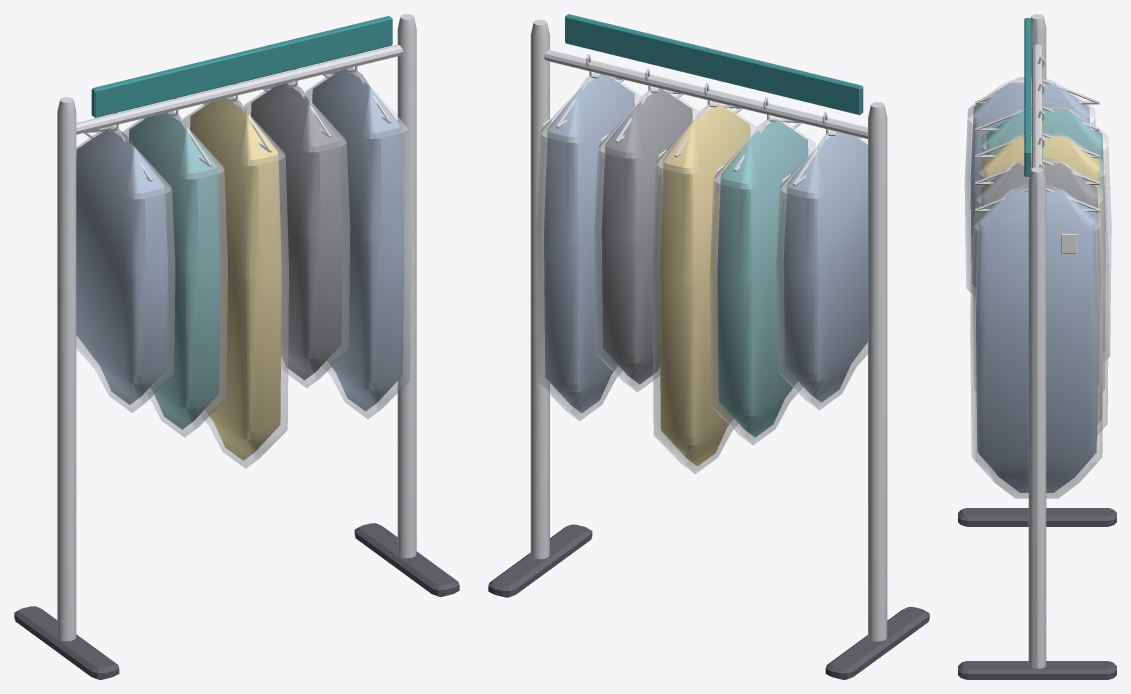
File: dry-cleaners-and-alterations-shop-shop-window-display--dafc36e7__34942.glb
3 renders of one model, left to right at view 1: azimuth 30°, elevation 25°; view 2: azimuth 150°, elevation 25°; view 3: azimuth 270°, elevation 25°, orthographic. The views are drawn at different scales.
Parts seen in each view (by area): view 1: shop-window-display-rail; view 2: shop-window-display-rail; view 3: shop-window-display-rail.
Part boxes in pixels (x1,y1,x2,y2): shop-window-display-rail: (14, 14, 459, 679); shop-window-display-rail: (488, 14, 929, 679); shop-window-display-rail: (958, 14, 1116, 679).
Size of the model in its own units: 1.23 by 1.79 by 0.5.
